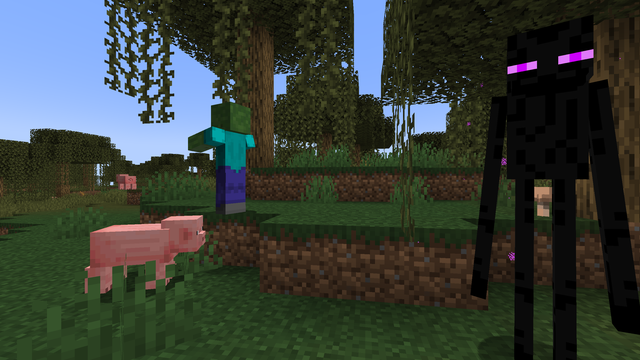cochons: (85, 220, 184, 297), (114, 175, 138, 189)
endermens: (488, 2, 618, 358)
zombies: (207, 104, 252, 214)
